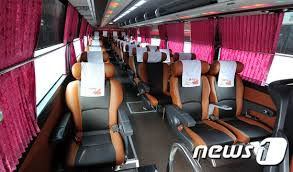seat: (65, 65, 128, 168)
